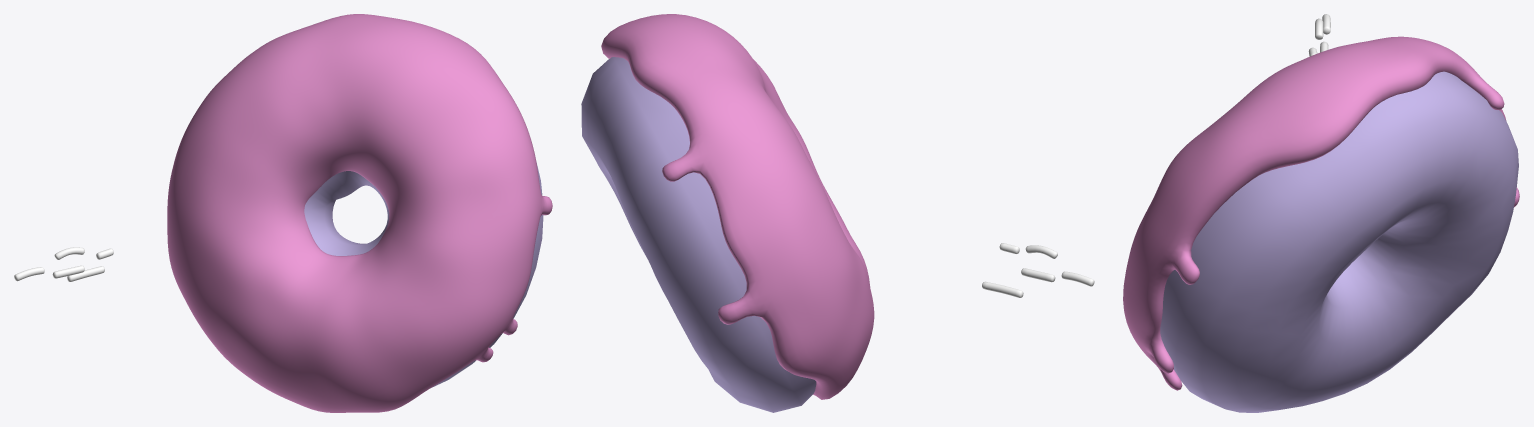
Rendered from donat.gltf.
3 renders of one model, left to right at view 1: azimuth 30°, elevation 25°; view 2: azimuth 150°, elevation 25°; view 3: azimuth 270°, elevation 25°, orthographic. The views are drawn at different scales.
Visible parts, largest first — view 1: icing, donat; view 2: icing, donat; view 3: donat, icing.
Boxes of the visible parts, <box> form: icing: <box>167,14,552,412</box>; donat: <box>304,163,543,388</box>; icing: <box>601,14,874,399</box>; donat: <box>581,57,816,412</box>; donat: <box>1160,71,1518,412</box>; icing: <box>1123,36,1519,390</box>.
Size of the model in its own units: 0.1452 by 0.0962 by 0.091.
